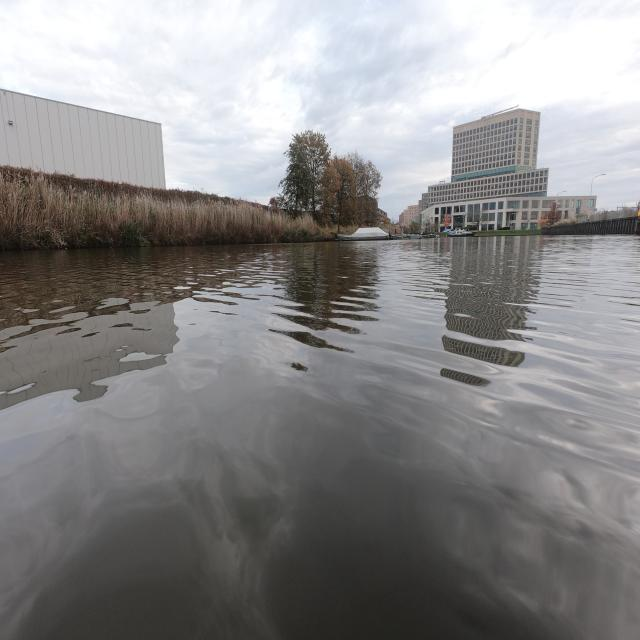boat: (337, 227, 389, 240)
reed: (2, 166, 334, 242)
sky: (0, 2, 638, 218)
wall: (544, 214, 638, 236)
water: (0, 236, 640, 640)
